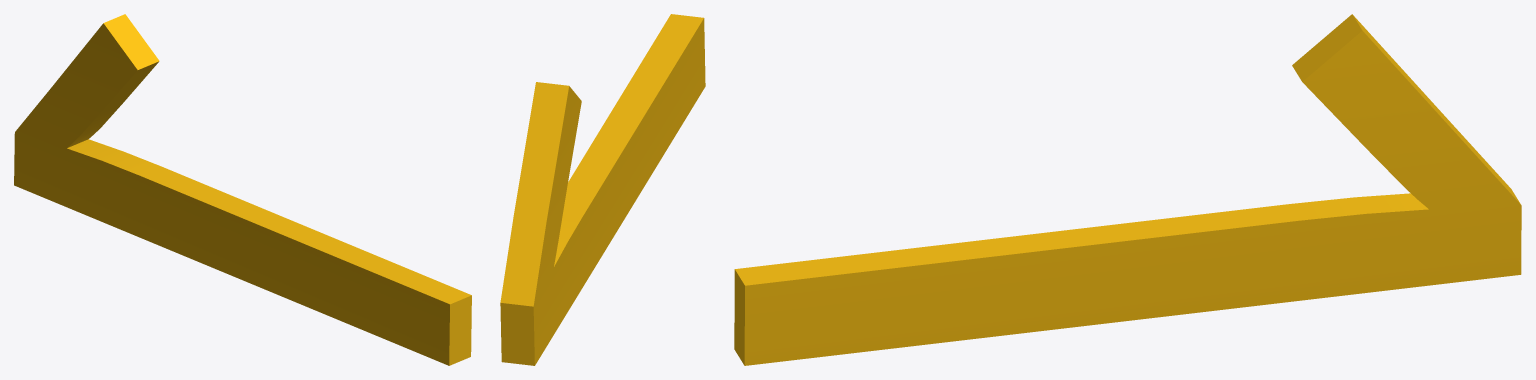
File: Number_1.gltf
3 renders of one model, left to right at view 1: azimuth 30°, elevation 25°; view 2: azimuth 150°, elevation 25°; view 3: azimuth 270°, elevation 25°, orthographic. The views are drawn at different scales.
Visible parts, largest first — view 1: Sub_7_Cell_2_2_Number_1; view 2: Sub_7_Cell_2_2_Number_1; view 3: Sub_7_Cell_2_2_Number_1.
Boxes of the visible parts, x1,y1,x2,y2 form: Sub_7_Cell_2_2_Number_1: (14,14,471,365); Sub_7_Cell_2_2_Number_1: (500,14,705,365); Sub_7_Cell_2_2_Number_1: (734,14,1521,365).
Bounding box in the file's own units: 0.00802 × 0.00907 × 0.0246.
